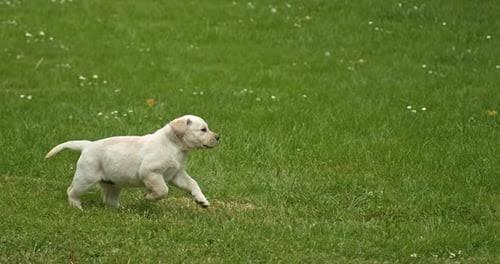puppy-dog: (43, 113, 220, 214)
